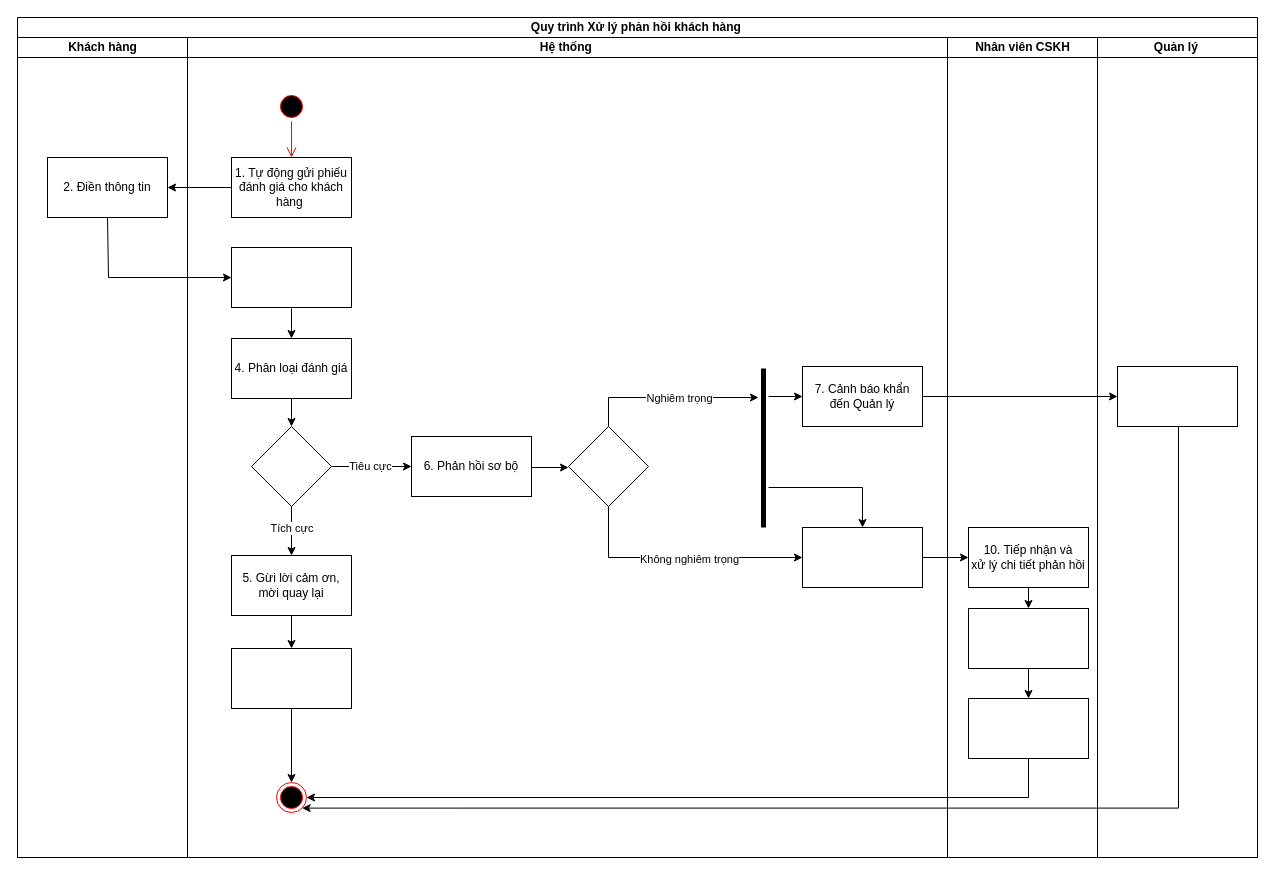
This 1275x875 diagram has some shape labels left out. The shapes that lost their labels are listed below. From the top down, each one's centre as x and y in pixels, then its label:
At (x=291, y=277): "3. Tự động thu thập phản hồi và đồng bộ hóa".
At (x=1177, y=396): "8. Nhận cảnh báo".
At (x=862, y=557): "9. Chuyển thông tin đến nhân viên CSKH".
At (x=1028, y=638): "11. Phản hồi khách hàng".
At (x=291, y=678): "13. Tự động cập nhật trạng thái".
At (x=1028, y=728): "12. Cập nhật trạng thái".
